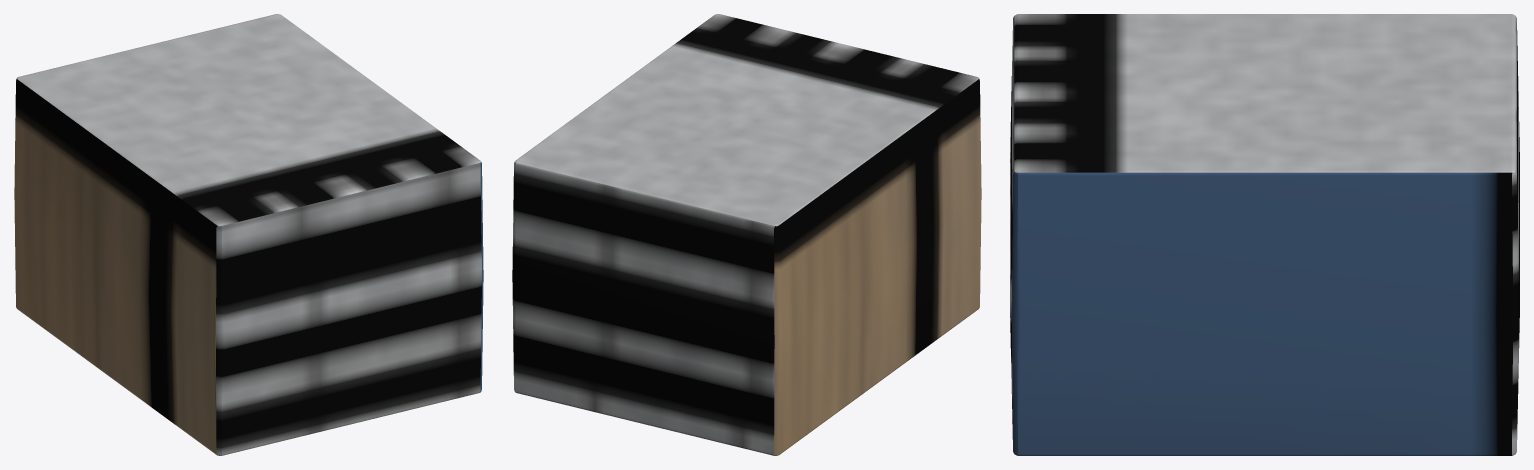
File: CardboardCarton_400x300x250.fbx
3 views of the same model, side by side, from view 1: azimuth 30°, elevation 25°; view 2: azimuth 150°, elevation 25°; view 3: azimuth 270°, elevation 25° (orthographic). The views are drawn at different scales.
Parts seen in each view (by area): view 1: CardboardCarton_400x300x250_LOD0; view 2: CardboardCarton_400x300x250_LOD0; view 3: CardboardCarton_400x300x250_LOD0.
Boxes of the visible parts, left/top/right/bottom form: CardboardCarton_400x300x250_LOD0: left=14, top=14, right=483, bottom=455; CardboardCarton_400x300x250_LOD0: left=512, top=14, right=981, bottom=455; CardboardCarton_400x300x250_LOD0: left=1010, top=14, right=1519, bottom=455.
Size of what is drawn, in the model's own units: 0.305 by 0.25 by 0.405.
